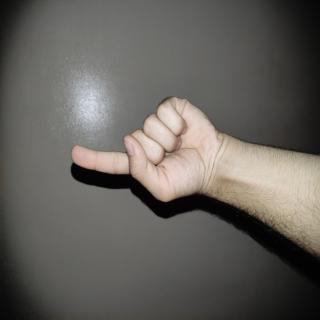BAA: (80, 85, 176, 308)
